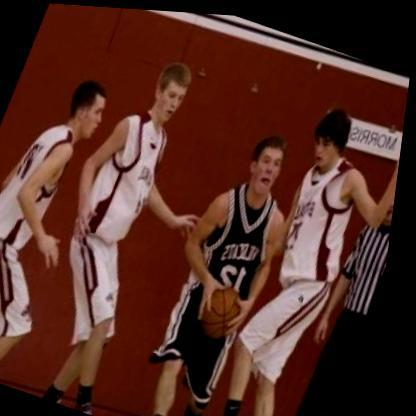basketball: (199, 271, 266, 343)
